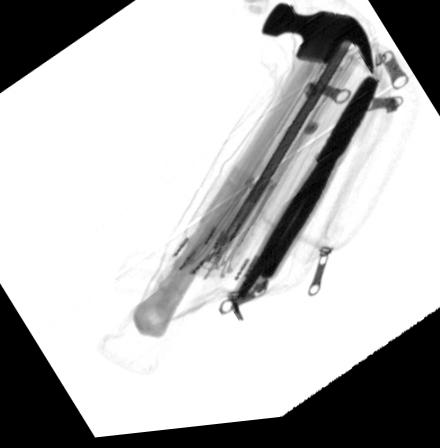Hammer: (131, 8, 373, 341)
Pliers: (229, 84, 380, 310)
